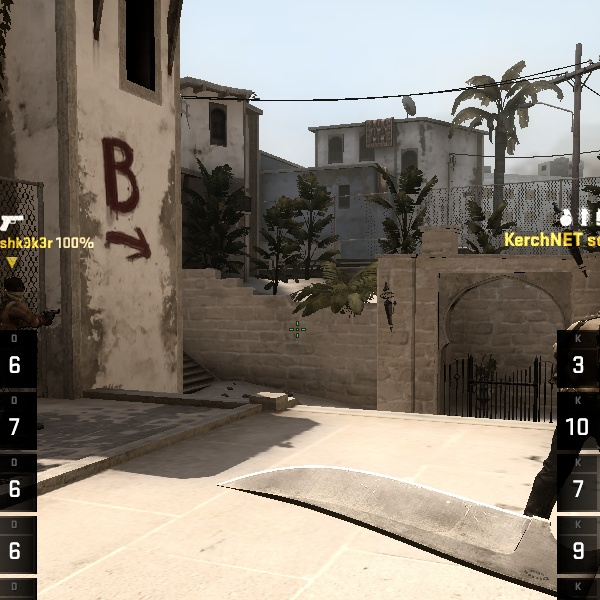t_head: (2, 270, 26, 309)
